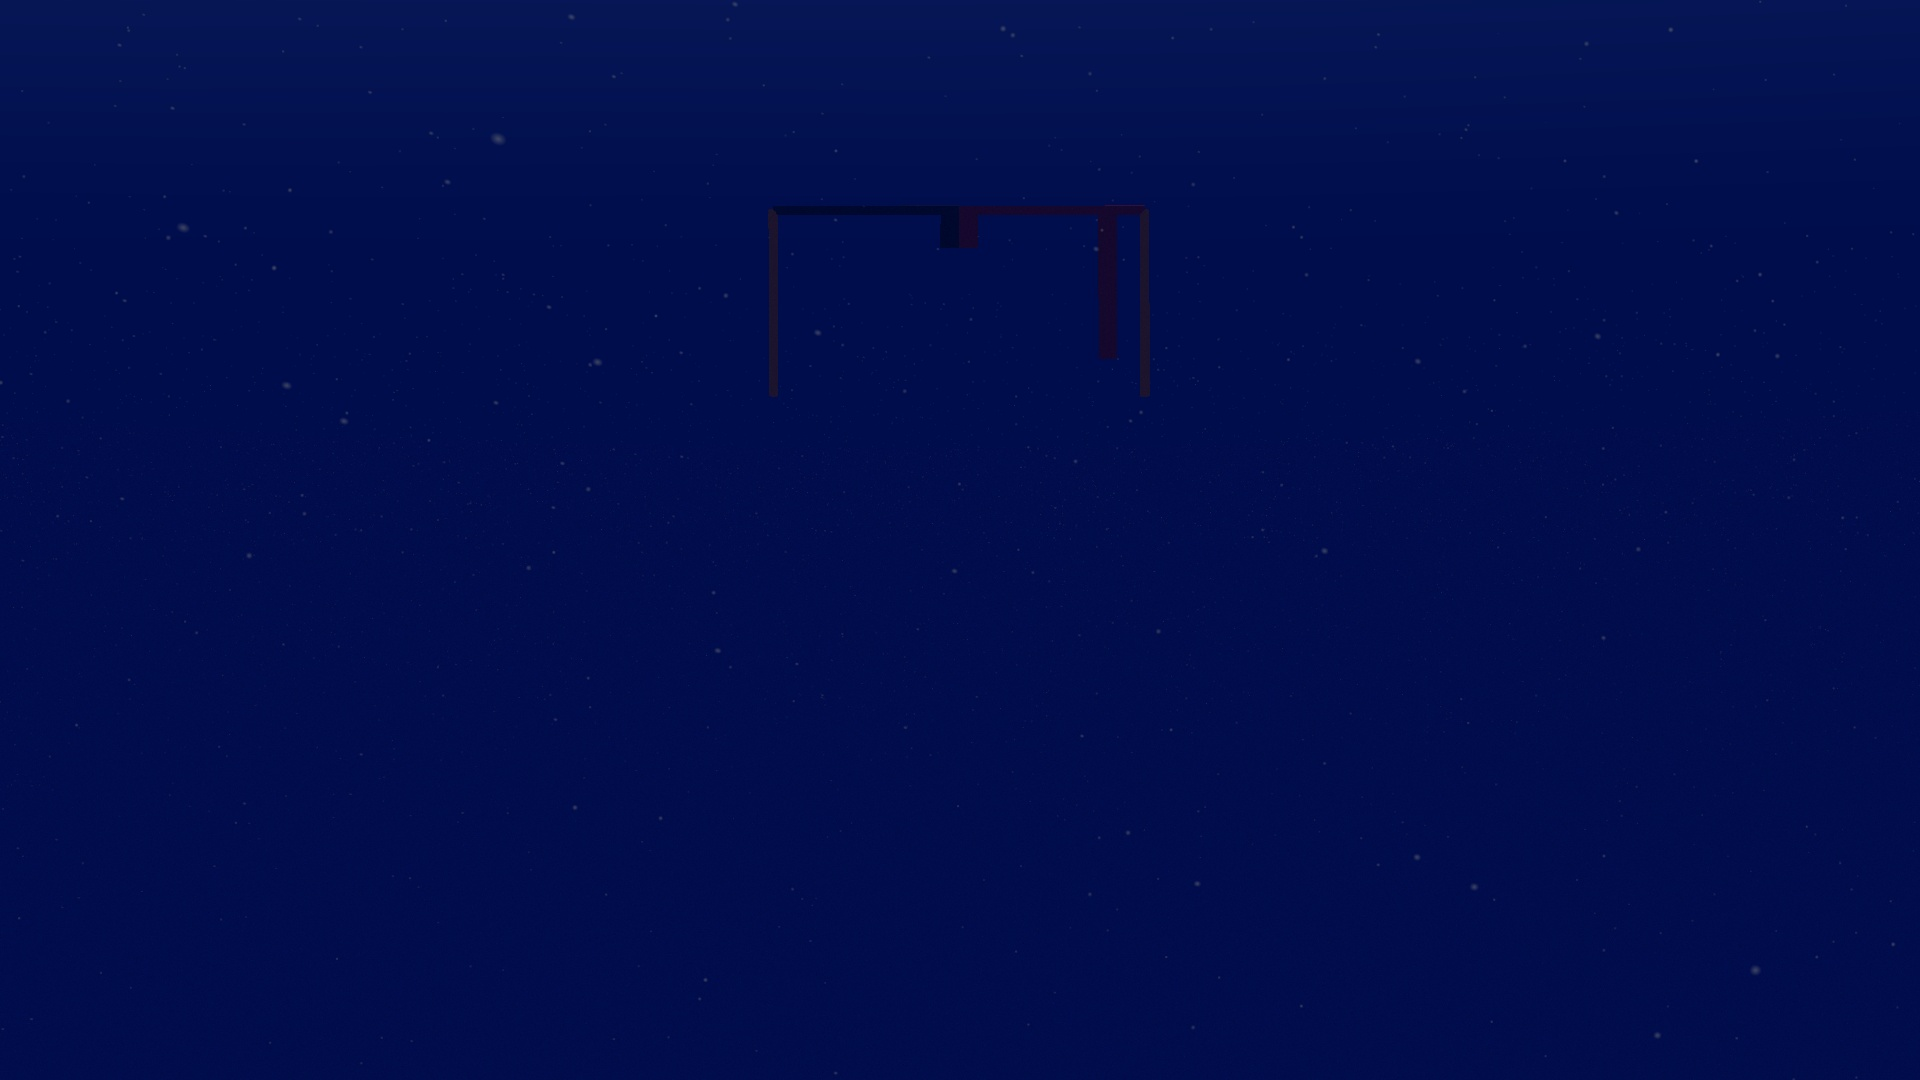Gate: (760, 200, 1156, 407)
